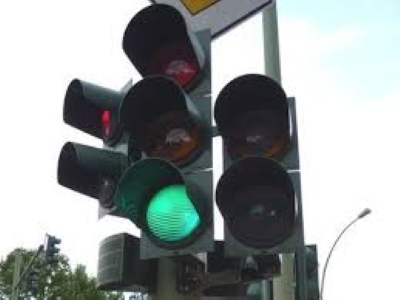trafficlight_green: (127, 11, 207, 246)
trafficlight_red: (55, 78, 123, 211)
